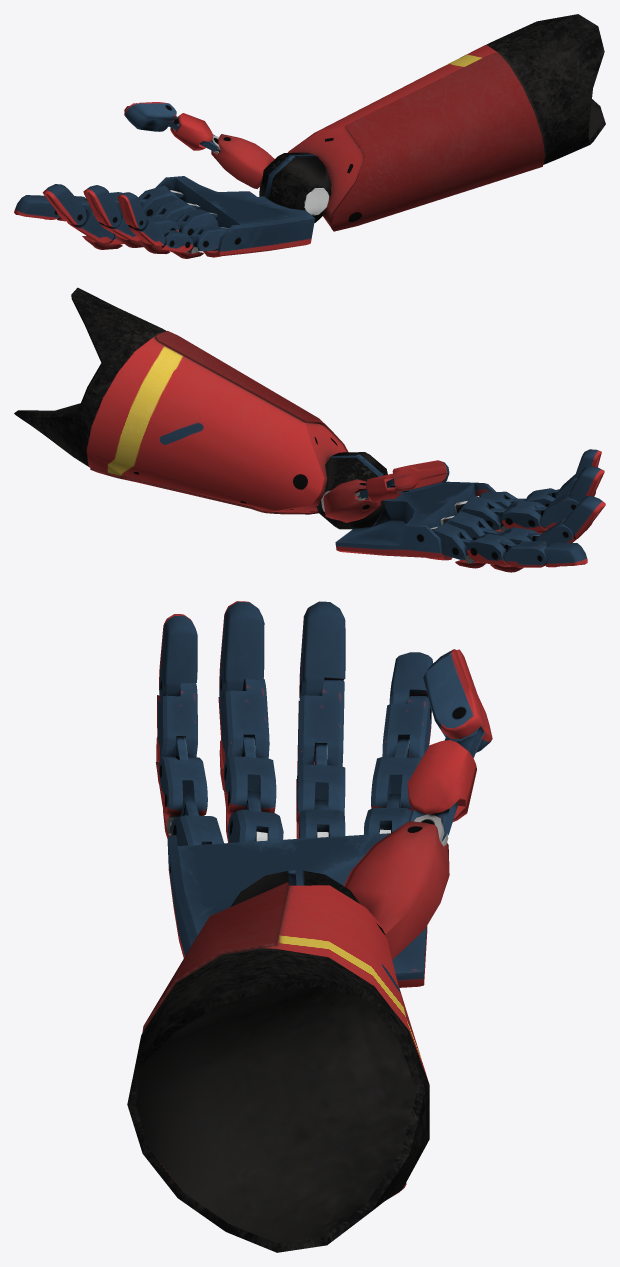
Rendered from arm.fbx.
The picture shows the model from 3 angles, top to bottom: view 1: azimuth 30°, elevation 25°; view 2: azimuth 150°, elevation 25°; view 3: azimuth 270°, elevation 25°; orthographic projection. The views are drawn at different scales.
Visible parts, largest first — view 1: Arm; view 2: Arm; view 3: Arm.
Boxes of the visible parts, x1=… form: Arm: x1=14, y1=14, x2=605, y2=258; Arm: x1=14, y1=287, x2=605, y2=572; Arm: x1=127, y1=601, x2=492, y2=1252.
Bounding box in the file's own units: 19.1 × 5.05 × 5.37.
